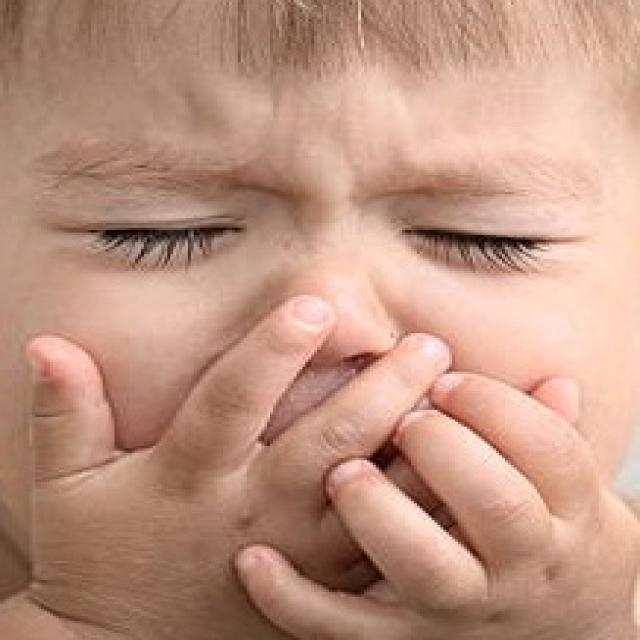Anxiety: (2, 37, 626, 606)
